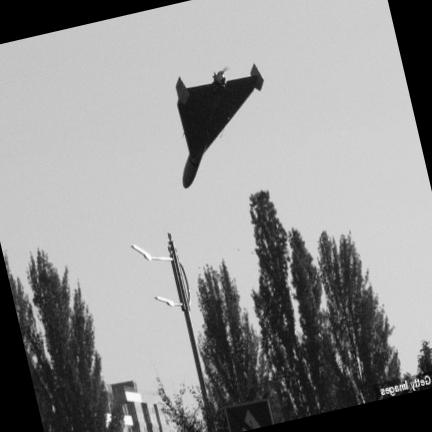Shahed: (175, 64, 262, 188)
